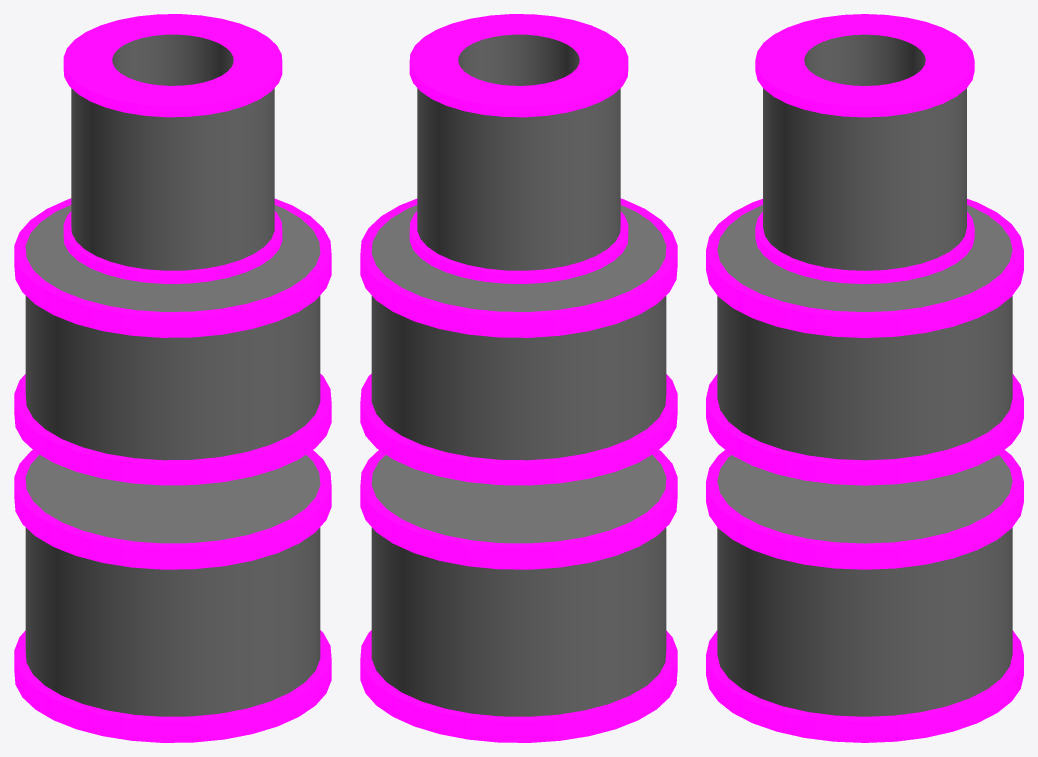
The model's file is RippleDefender Health 3.fbx.
3 views of the same model, side by side, from view 1: azimuth 30°, elevation 25°; view 2: azimuth 150°, elevation 25°; view 3: azimuth 270°, elevation 25° (orthographic).
Parts seen in each view (by area): view 1: RippleDefender 3rd health upgrade; view 2: RippleDefender 3rd health upgrade; view 3: RippleDefender 3rd health upgrade.
Part boxes in pixels (x1=…): RippleDefender 3rd health upgrade: x1=14, y1=14, x2=331, y2=742; RippleDefender 3rd health upgrade: x1=360, y1=14, x2=677, y2=742; RippleDefender 3rd health upgrade: x1=706, y1=14, x2=1023, y2=742.
Bounding box in the file's own units: 54.3 × 116 × 54.3.
